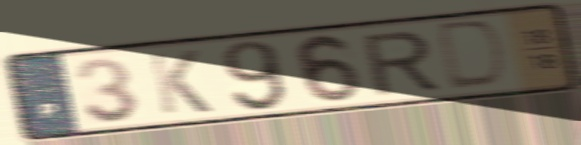3: (71, 53, 144, 126)
6: (292, 32, 363, 106)
9: (219, 38, 287, 113)
D: (437, 16, 512, 93)
K: (145, 48, 216, 117)
R: (358, 27, 443, 99)
